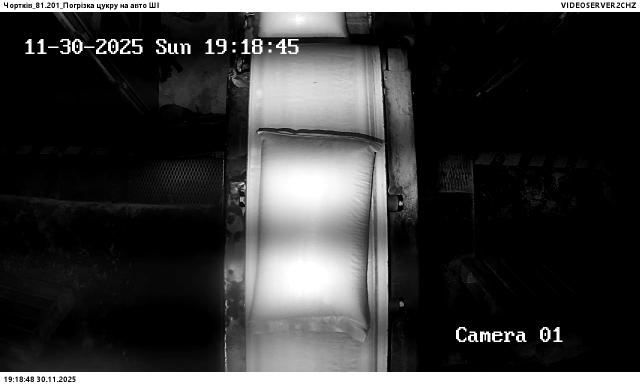bag: (249, 130, 383, 342), (260, 12, 350, 39)
